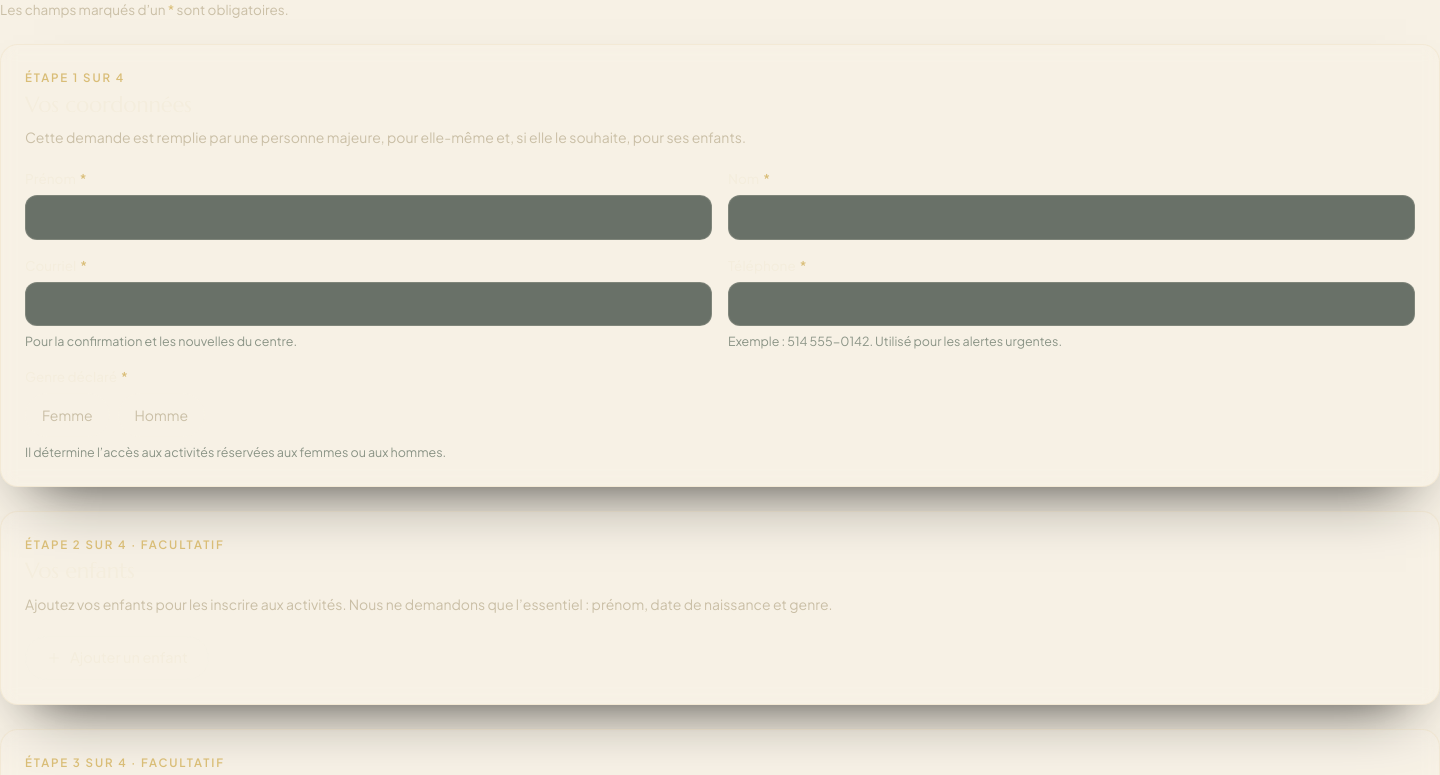
Public — membership form › never lets an adult man tick a women-only activity, and says why
In the field labelled "Prénom*": (368, 217) x1=25 y1=195 x2=712 y2=240, type "Yacine"
In the field labelled "Nom*": (1072, 217) x1=728 y1=195 x2=1415 y2=240, type "Belaid"
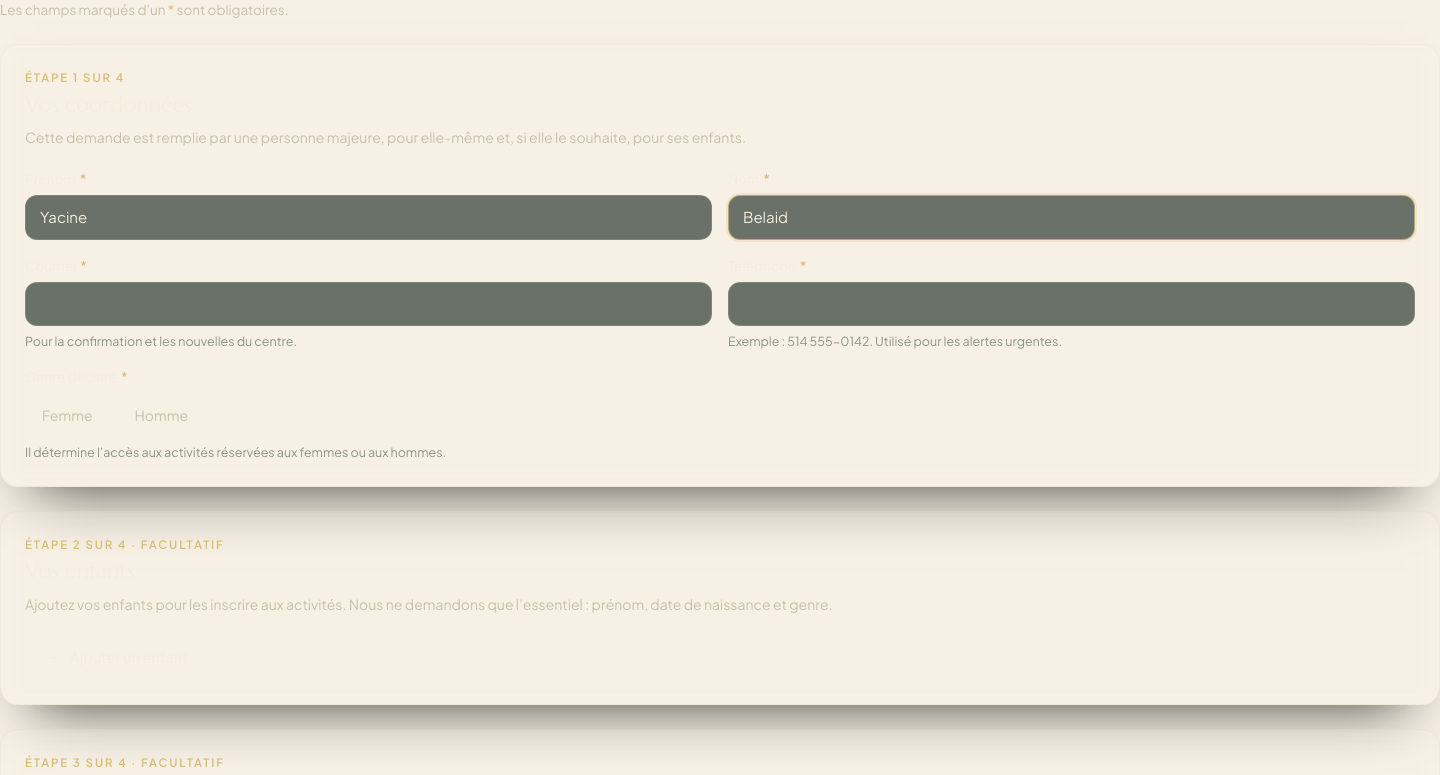
In the field labelled "Courriel*": (368, 304) x1=25 y1=282 x2=712 y2=326, type "yacine@example.org"
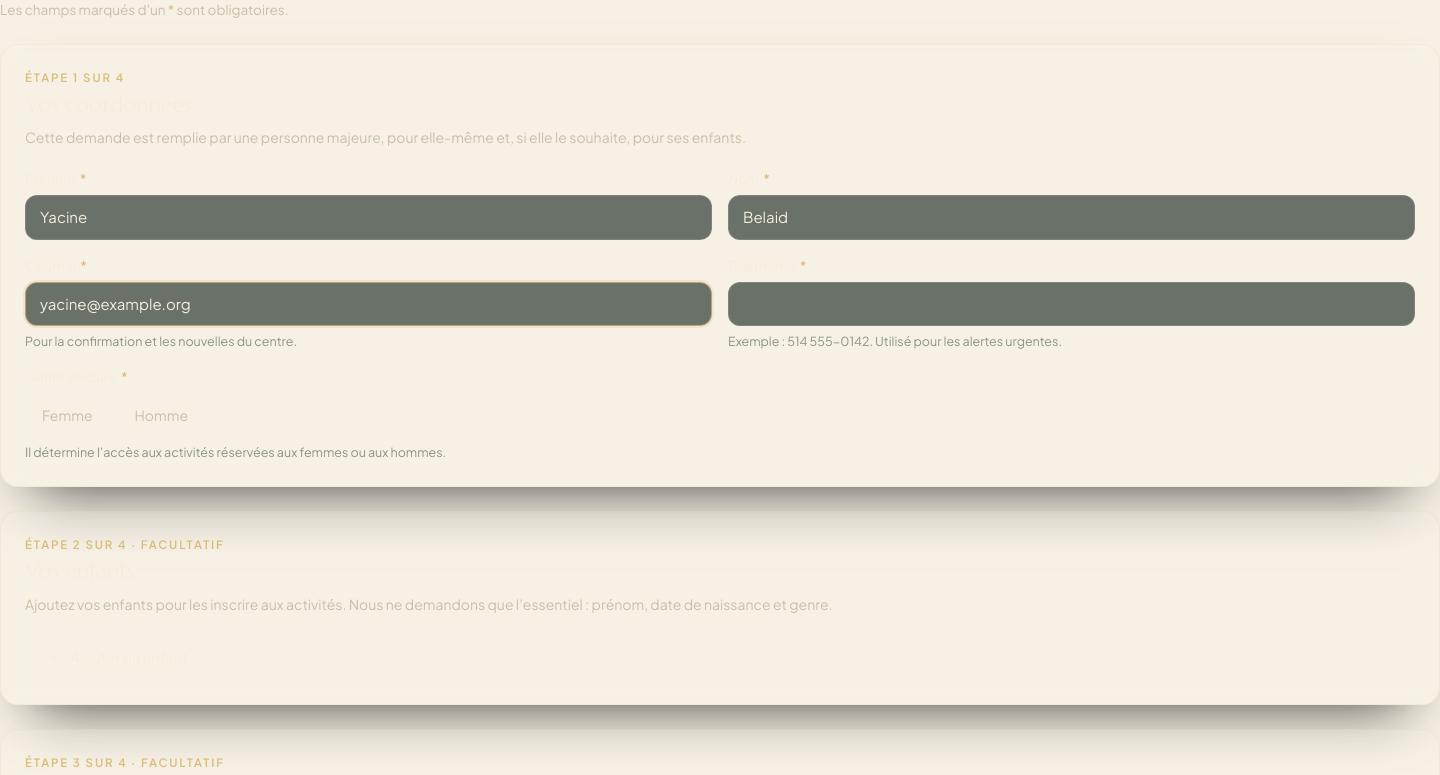
In the field labelled "Téléphone*": (1072, 304) x1=728 y1=282 x2=1415 y2=326, type "514 555-0123"
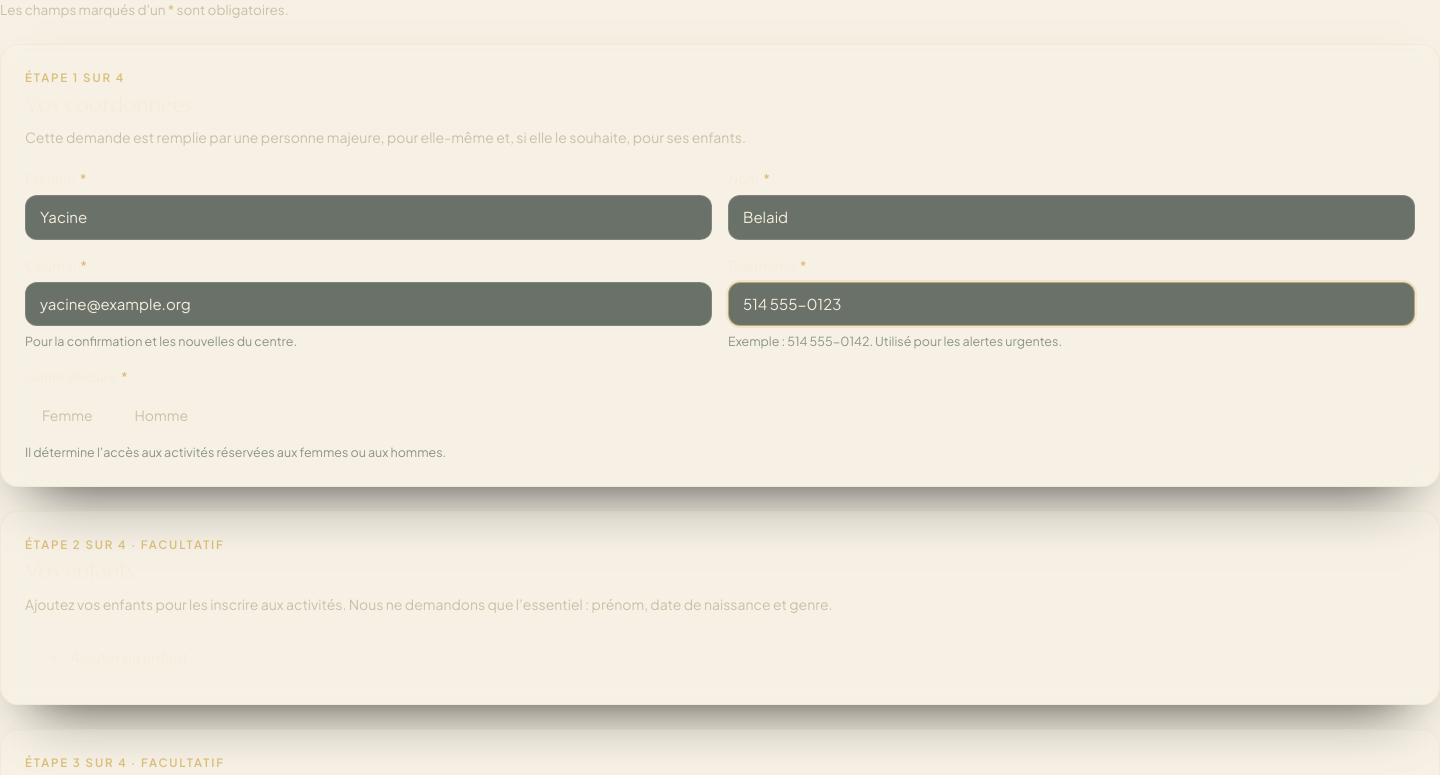
Click the radio button labelled "Homme": (161, 415) x1=118 y1=393 x2=205 y2=437
(page scrolled)
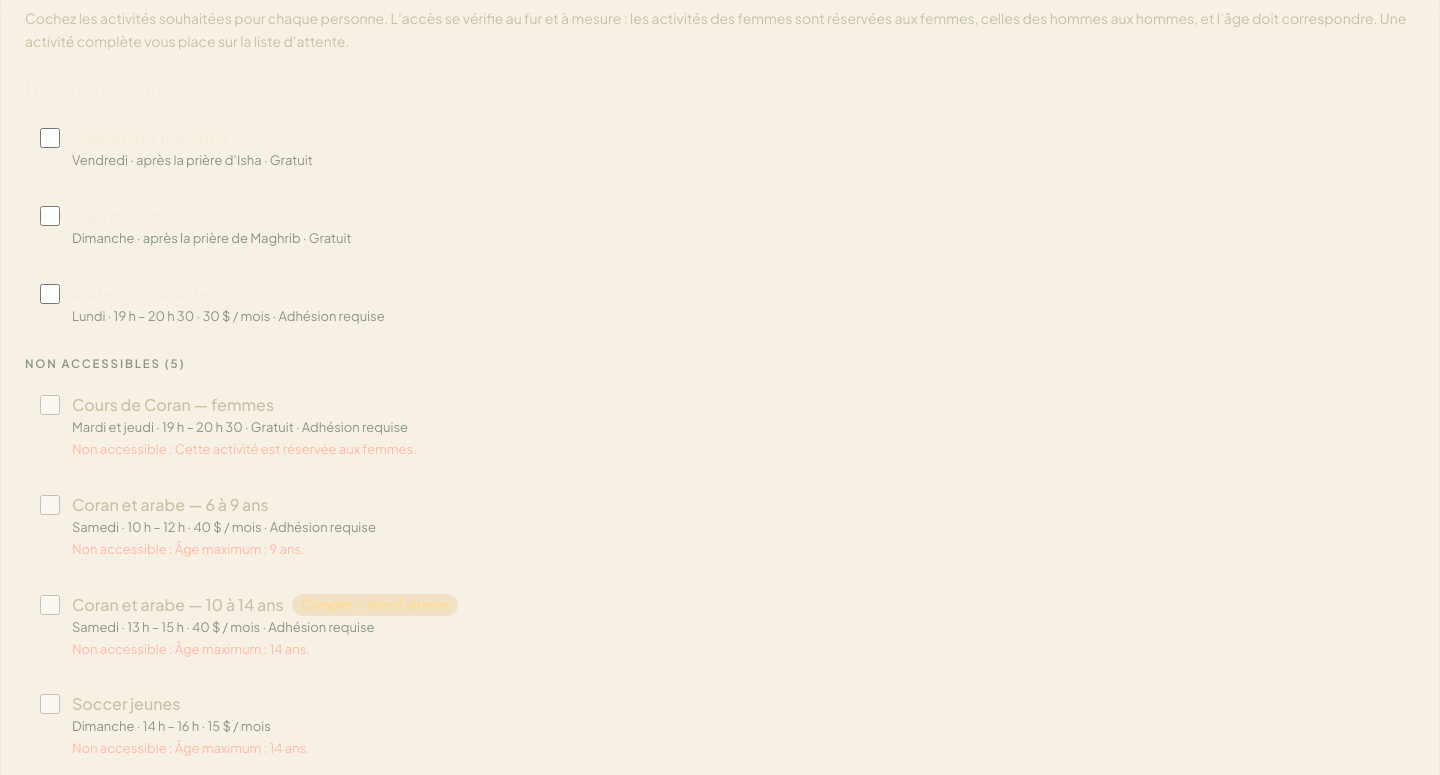
Click the checkbox labelled "Cours de Coran — femmes": (50, 405) x1=40 y1=395 x2=60 y2=415
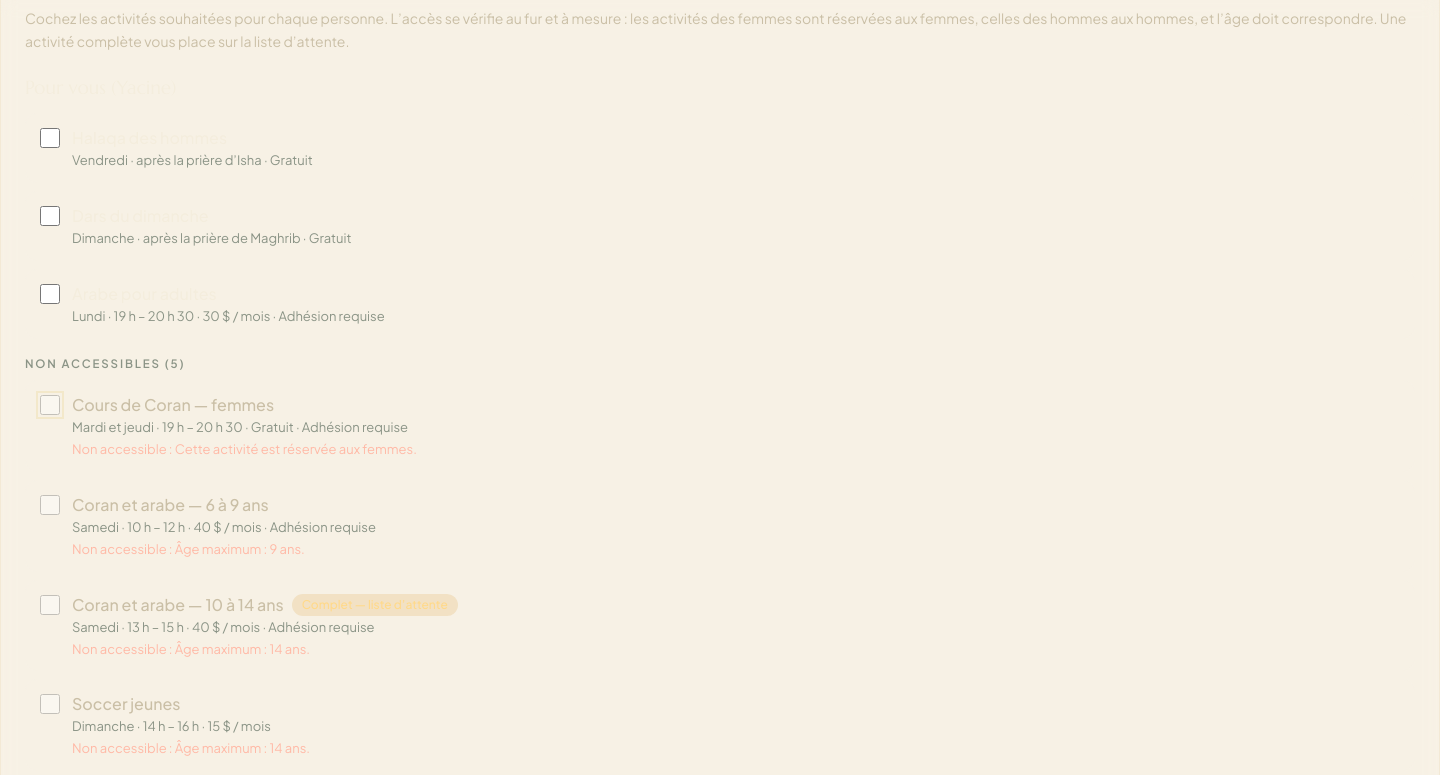
Click the checkbox labelled "Halaqa des hommes": (50, 138) x1=40 y1=128 x2=60 y2=148
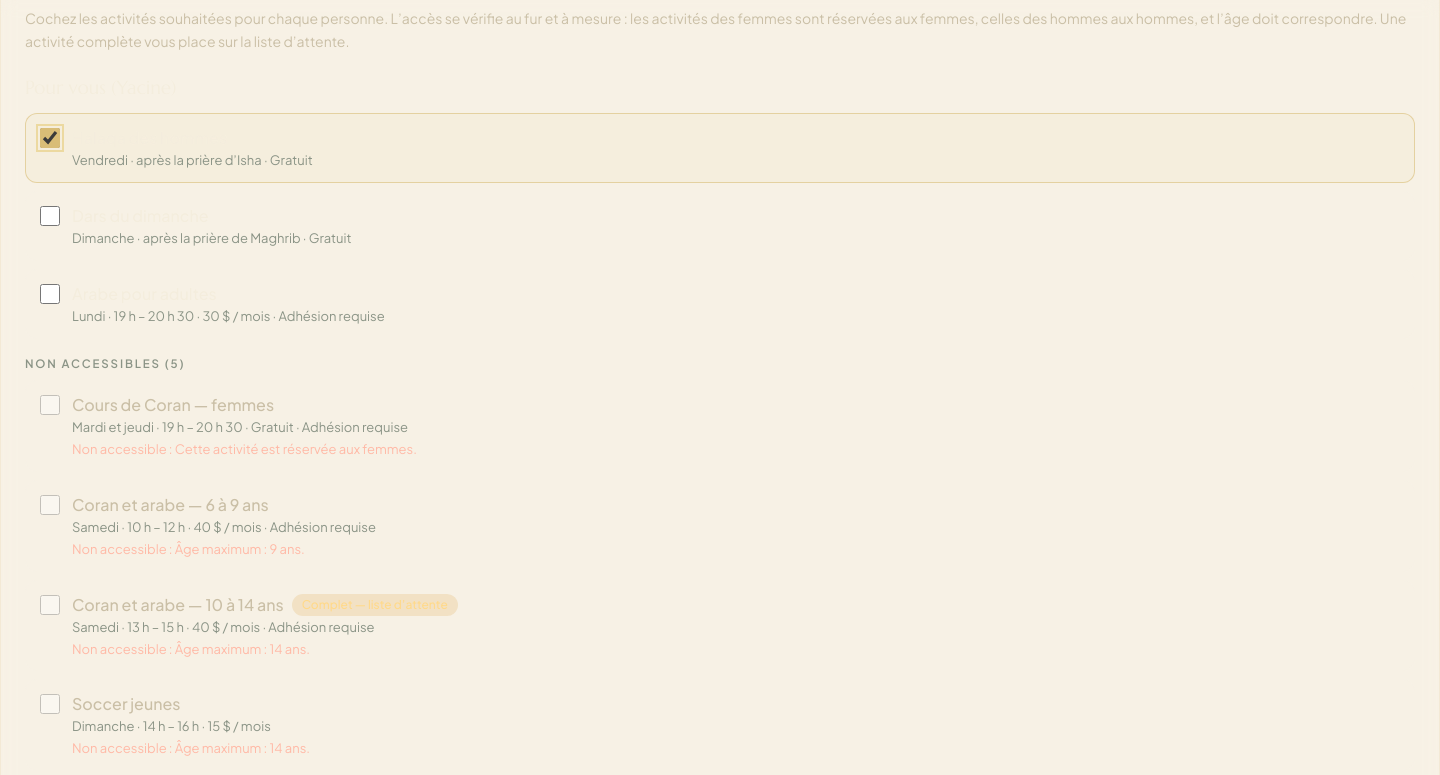
Result: the checkbox labelled "Halaqa des hommes" is checked at x1=40 y1=128 x2=60 y2=148
